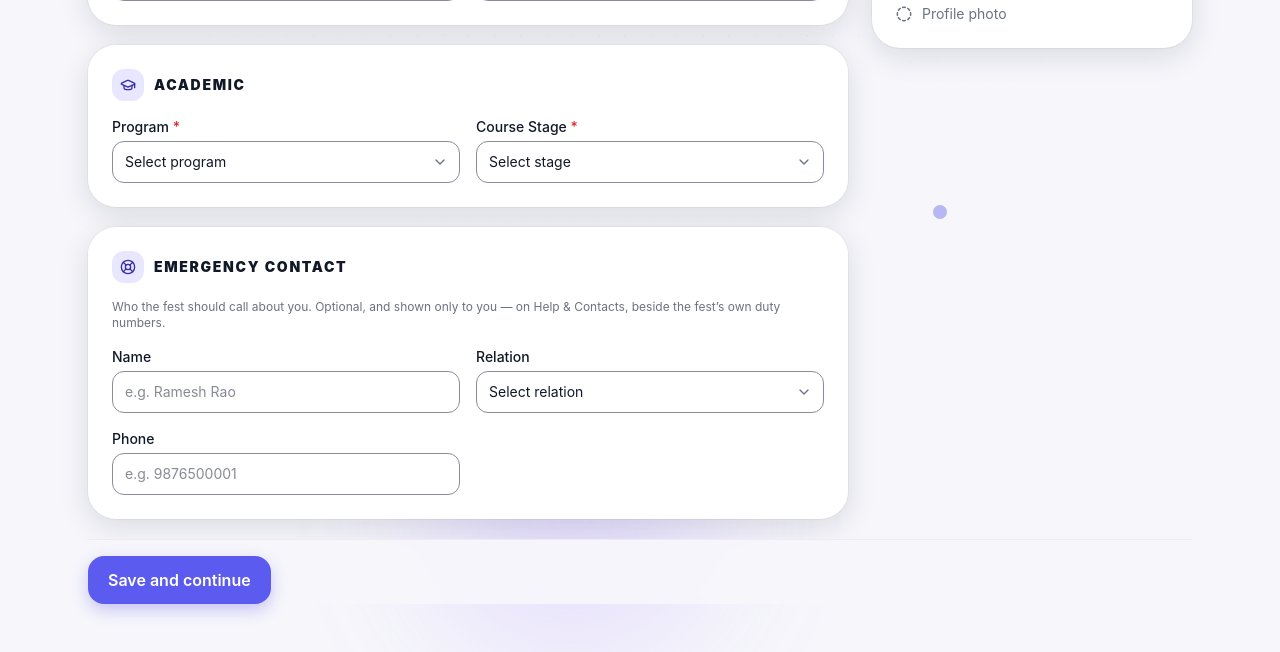
Test case: CompleteProfilePage › refuses a half-filled emergency contact rather than sending a 422
(page scrolled)
Type "Ramesh Rao" into the field labelled "Name" at coordinates (286, 392), box [112, 371, 460, 413]
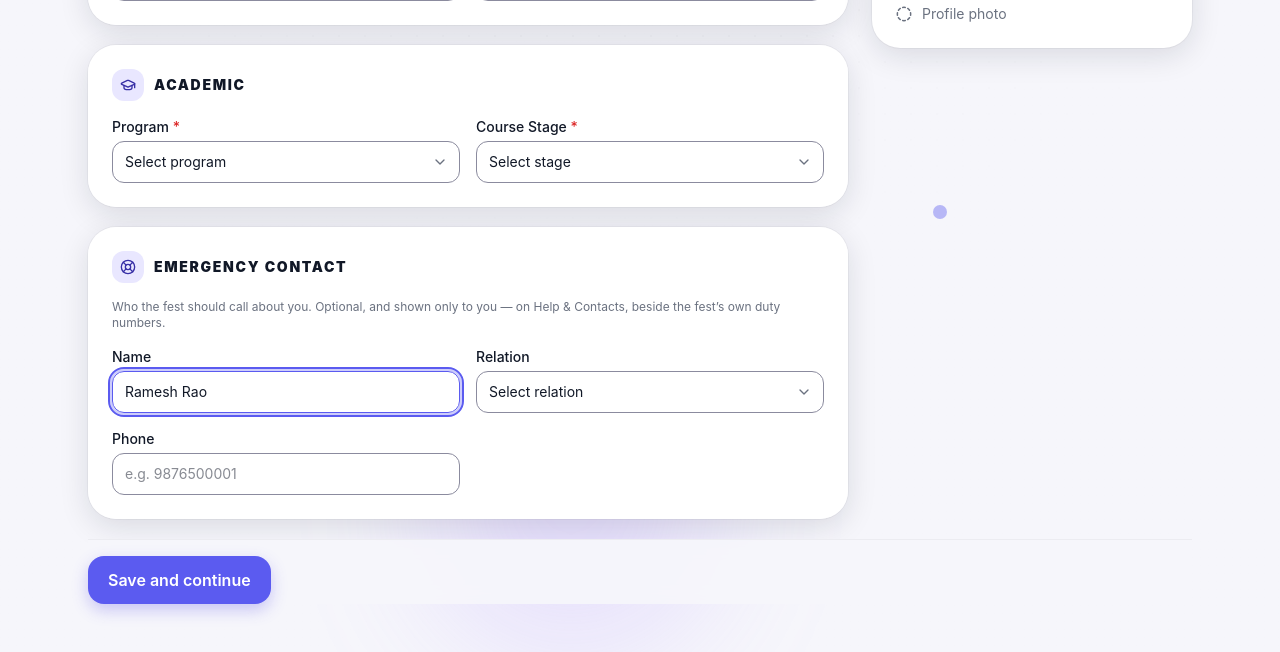
Click the button "Save and continue" at coordinates (179, 580), box [88, 556, 271, 604]
(page scrolled)
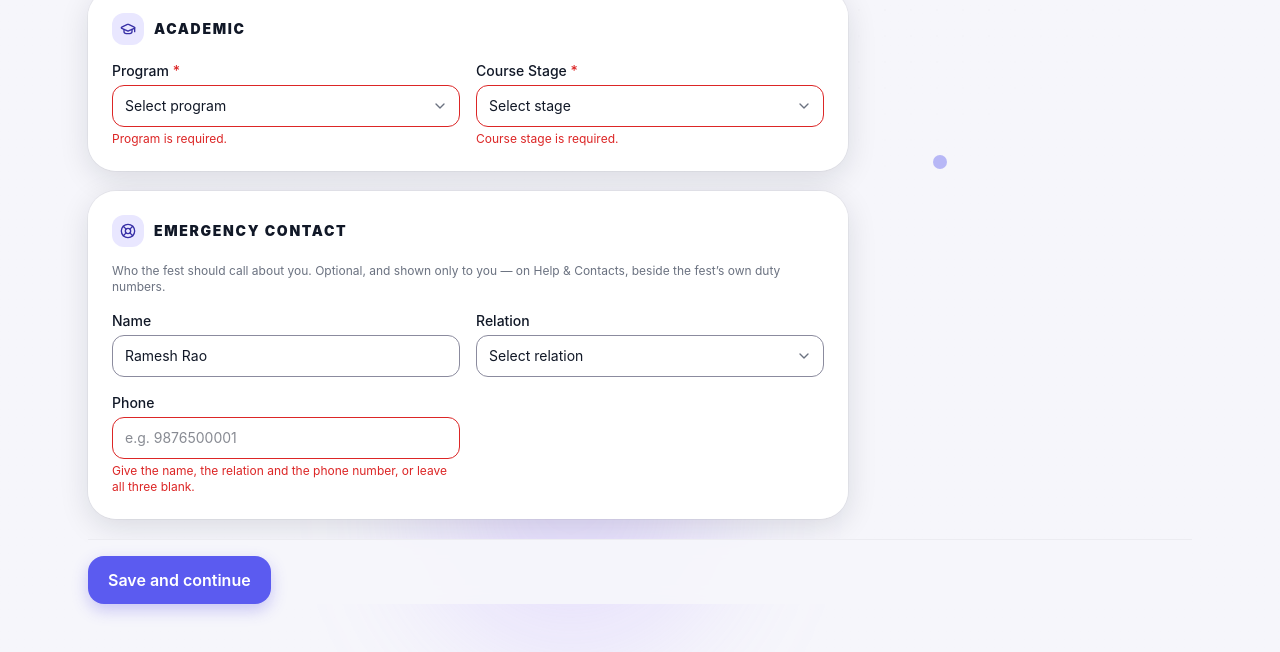
Now the text "Give the name, the relation and the phone number, or leave all three blank." is shown, box [112, 463, 460, 495]
